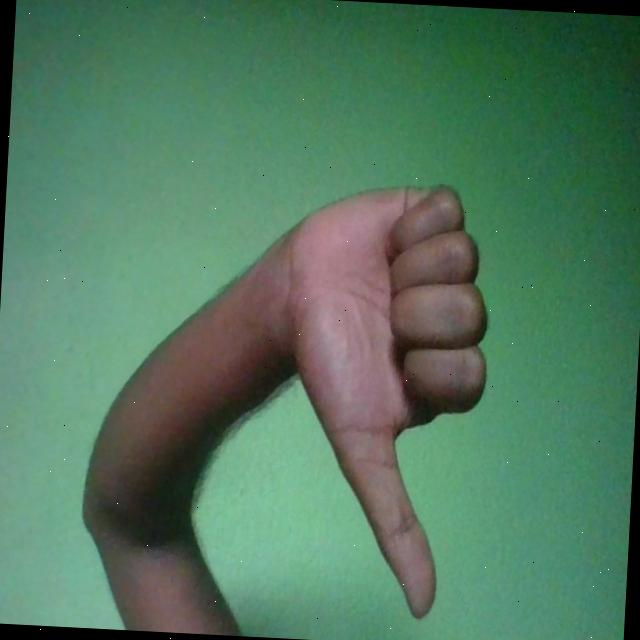Dislike: (266, 179, 494, 624)
